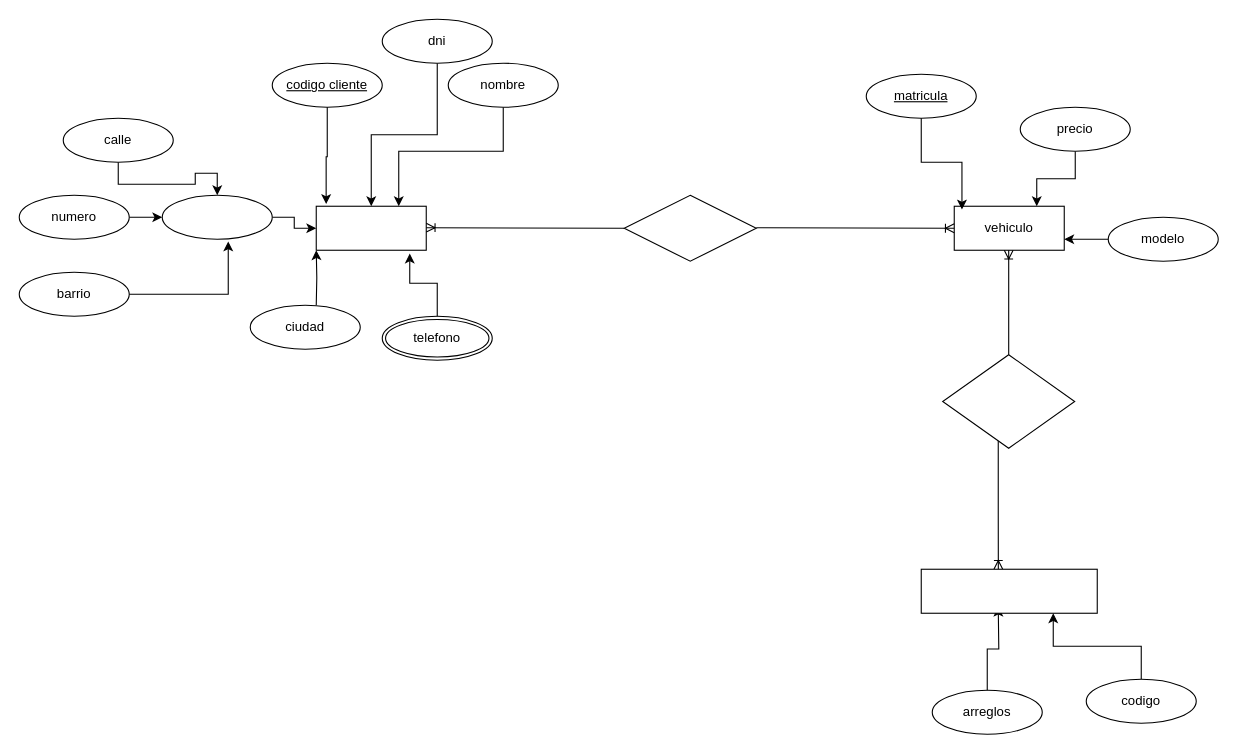
Some shapes in this 1238 by 754 pixel diagram are drawn without their labels. The shapes that lost their labels are listed below. From the top down, each one's centre as x and y in pixels, then its label:
At (216,216): "direccion".
At (370,227): "cliente".
At (689,227): "compra".
At (1008,401): "tiene".
At (1008,590): "revision".
